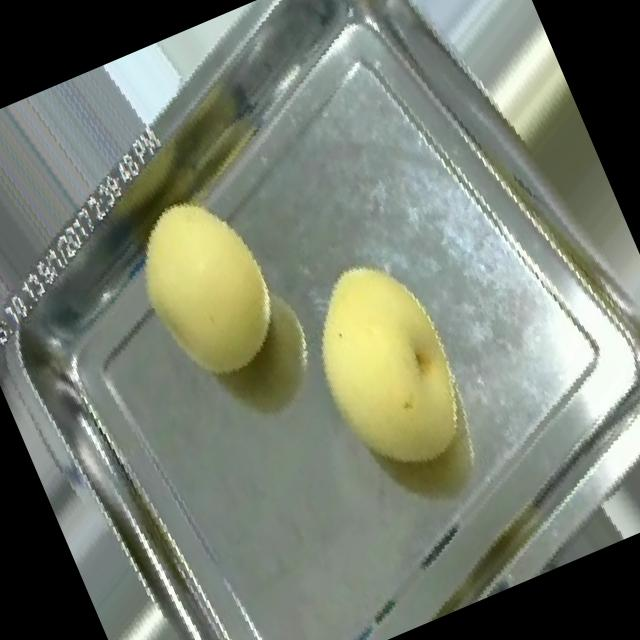Fruit: (252, 215, 524, 518), (94, 162, 318, 414)
